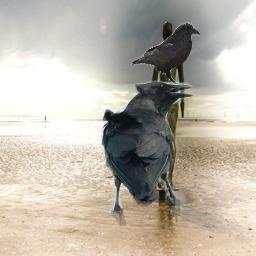Crow: (101, 77, 194, 226), (131, 22, 200, 86)
